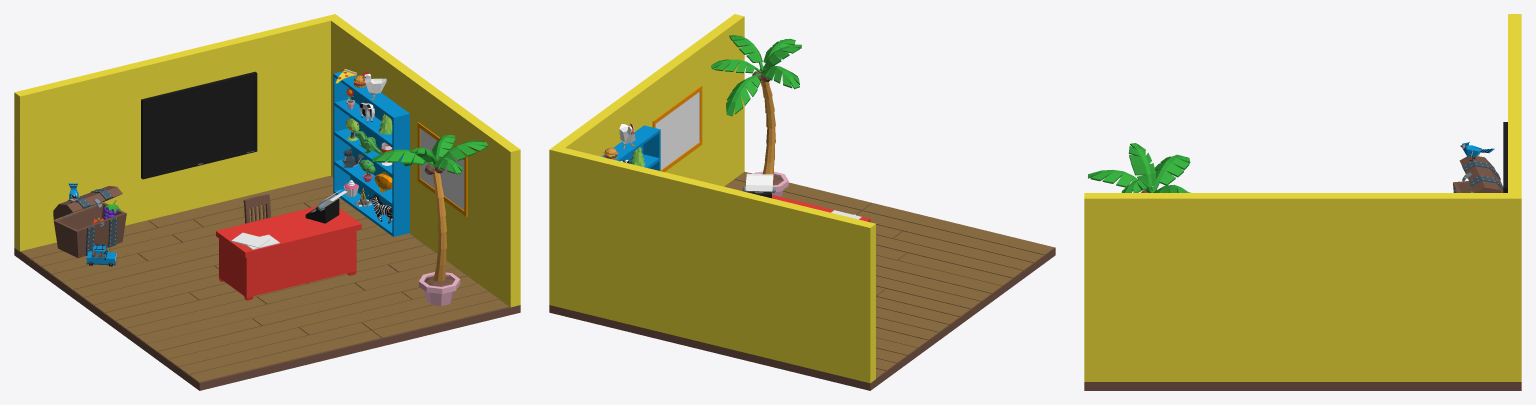
File: room.fbx
3 renders of one model, left to right at view 1: azimuth 30°, elevation 25°; view 2: azimuth 150°, elevation 25°; view 3: azimuth 270°, elevation 25°, orthographic. The views are drawn at different scales.
Parts seen in each view (by area): view 1: Plane, Cube.024, Cube_Cube.001, Cube.001_Cube.002, Cube.002_Cube.003, palm_tree_01, Cube.004_Cube, Plane.002_Plane.009, flower_01_Cube.000, Cube.005, Cube.003_Cube.006, Plane.004_Plane.010 (+2 smaller); view 2: Plane, Cube.024, palm_tree_01, Plane.002_Plane.009, Cube.002_Cube.003, Cube.003_Cube.006; view 3: Plane, palm_tree_01, Cube.005.
Part boxes in pixels (x1,y1,x2,y2): Plane: [14, 14, 520, 390]; Cube.024: [20, 176, 508, 382]; Cube_Cube.001: [141, 71, 257, 179]; Cube.001_Cube.002: [216, 206, 361, 300]; Cube.002_Cube.003: [333, 69, 409, 236]; palm_tree_01: [372, 135, 487, 281]; Cube.004_Cube: [53, 202, 126, 258]; Plane.002_Plane.009: [417, 122, 467, 216]; flower_01_Cube.000: [419, 272, 460, 305]; Cube.005: [53, 186, 122, 219]; Cube.003_Cube.006: [305, 190, 347, 223]; Plane.004_Plane.010: [243, 194, 270, 223]; Plane: [549, 14, 1055, 390]; Cube.024: [724, 172, 1054, 378]; palm_tree_01: [711, 35, 801, 178]; Plane.002_Plane.009: [652, 85, 702, 171]; Cube.002_Cube.003: [601, 125, 660, 170]; Cube.003_Cube.006: [742, 173, 775, 198]; Plane: [1084, 14, 1521, 390]; palm_tree_01: [1088, 143, 1190, 192]; Cube.005: [1459, 156, 1503, 192].
Size of the model in its own units: 7745 by 3862 by 7745.
